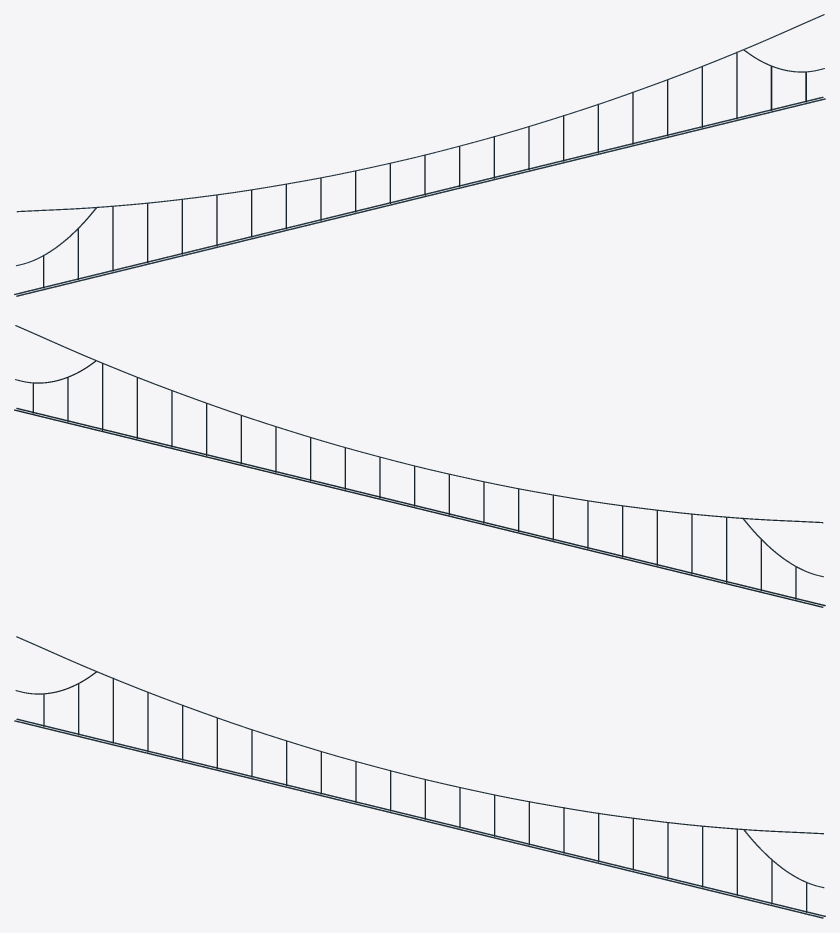
File: bvl_kabel.glb
3 renders of one model, top to bottom at view 1: azimuth 30°, elevation 25°; view 2: azimuth 150°, elevation 25°; view 3: azimuth 330°, elevation 25°, orthographic.
Parts seen in each view (by area): view 1: BVL_Kabel; view 2: BVL_Kabel; view 3: BVL_Kabel.
Boxes of the visible parts, x1,y1,x2,y2 form: BVL_Kabel: (14, 14, 825, 296); BVL_Kabel: (14, 325, 825, 607); BVL_Kabel: (14, 636, 825, 918).
Size of the model in its own units: 10 by 1 by 0.07.
